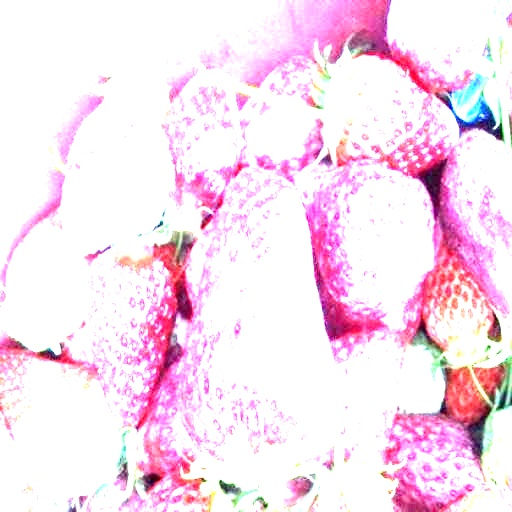Powdery Mildew Fruit: (176, 166, 337, 482), (0, 348, 124, 499), (61, 98, 175, 257), (158, 68, 240, 232), (237, 53, 333, 173), (386, 0, 490, 91), (0, 409, 38, 511), (424, 94, 460, 161)
